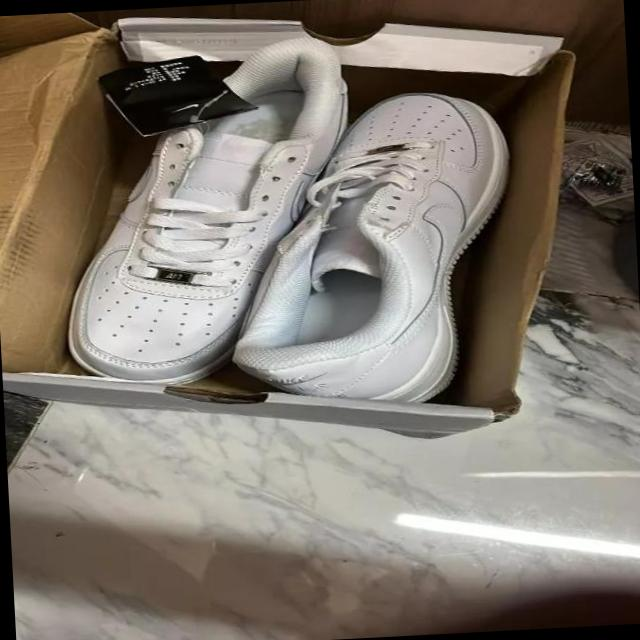nike_fake_airforce: (48, 26, 366, 388), (228, 79, 542, 406)
